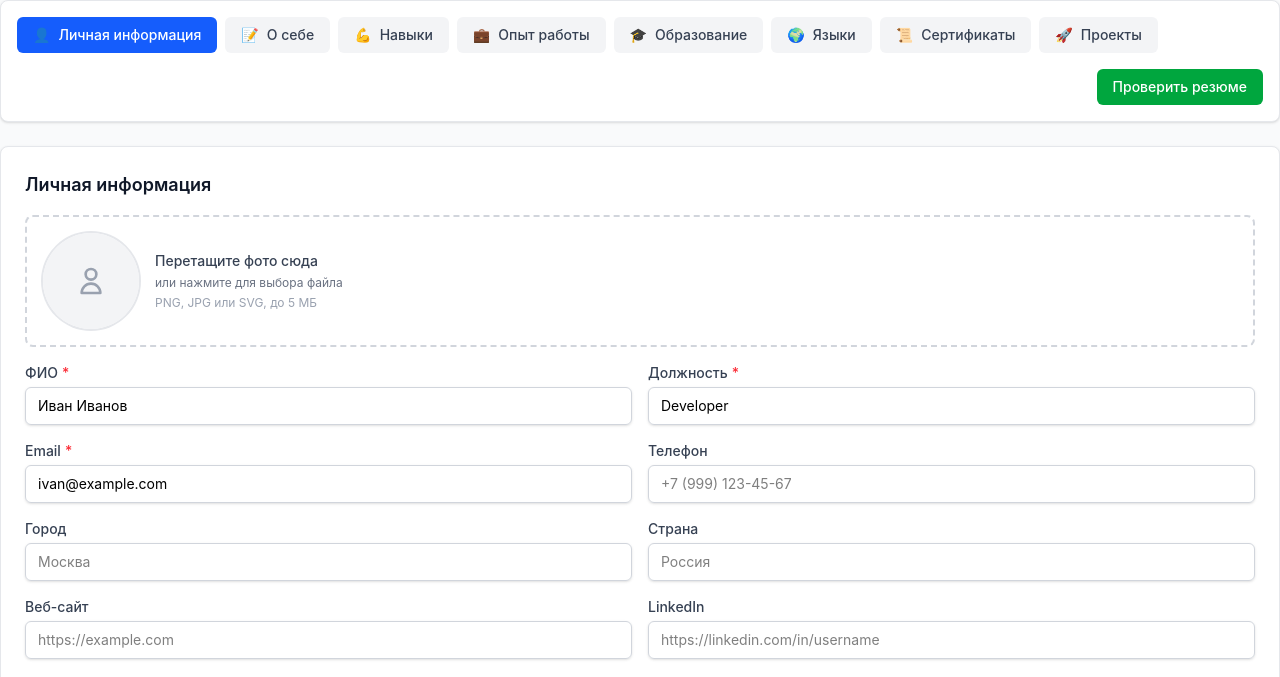
Test case: EditorPanel › should show success when resume is valid
Click the button "Проверить резюме" at (1180, 87), box [1097, 69, 1263, 105]
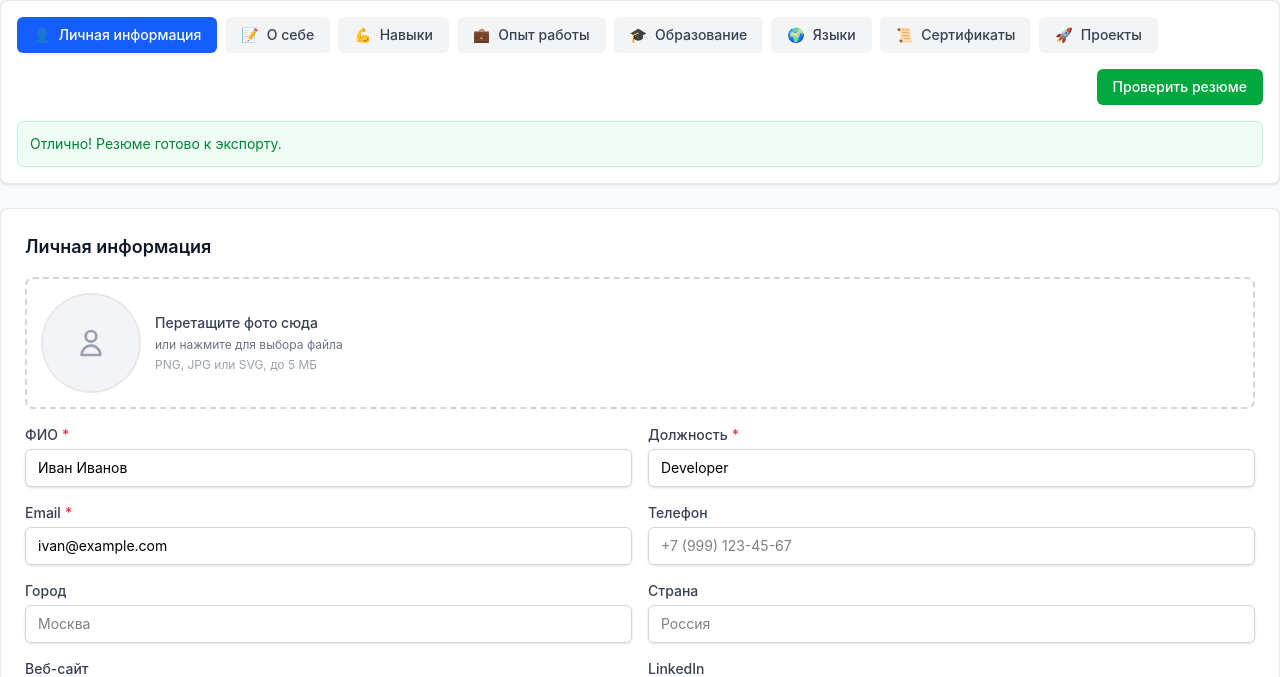
Now the text "Отлично! Резюме готово к экспорту." is shown, box [30, 135, 282, 152]
